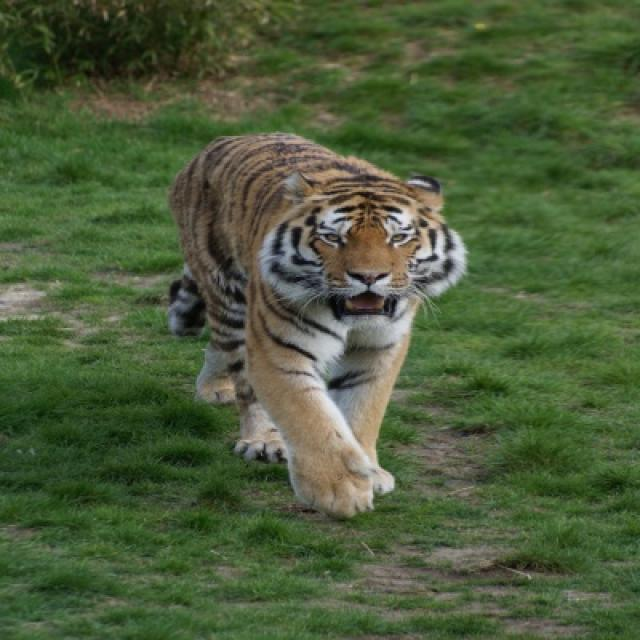Tiger: (163, 132, 468, 515)
